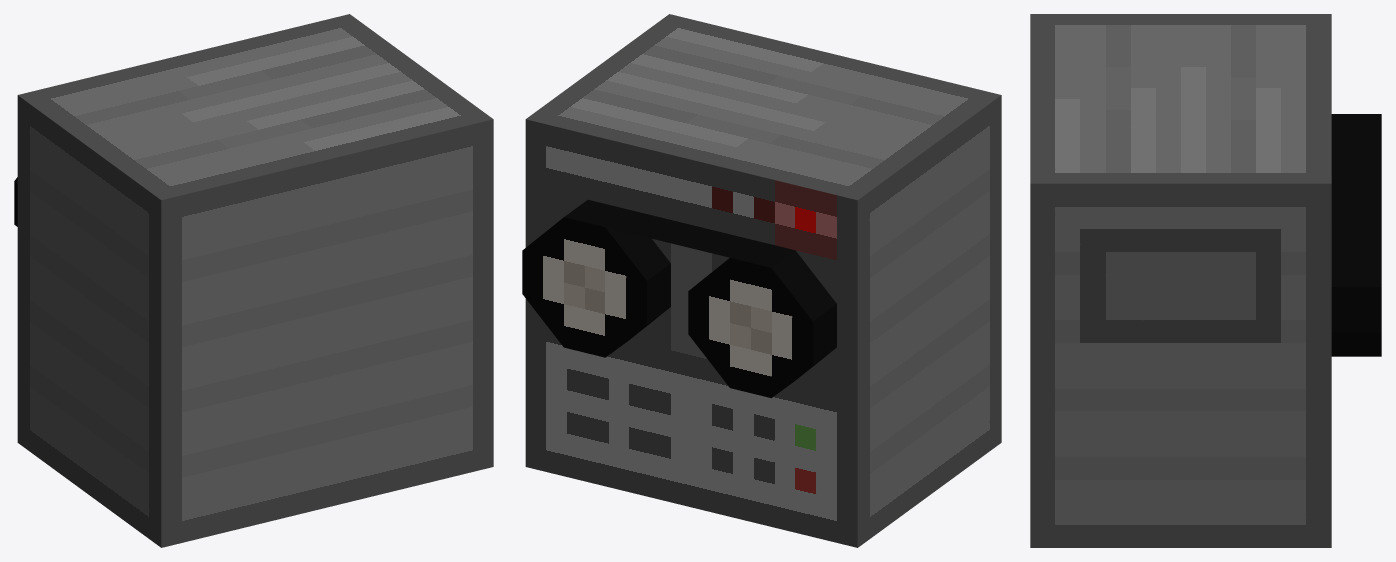
Rendered from tape_recorder.obj.
3 renders of one model, left to right at view 1: azimuth 30°, elevation 25°; view 2: azimuth 150°, elevation 25°; view 3: azimuth 270°, elevation 25°, orthographic. The views are drawn at different scales.
Visible parts, largest first — view 1: Cube_Cube.001; view 2: Cube_Cube.001; view 3: Cube_Cube.001.
Boxes of the visible parts, box(x1,y1,x2,y2) form: Cube_Cube.001: box(14, 14, 493, 547); Cube_Cube.001: box(522, 14, 1001, 547); Cube_Cube.001: box(1030, 14, 1381, 547).
Size of the model in its own units: 1 by 1 by 0.875.
